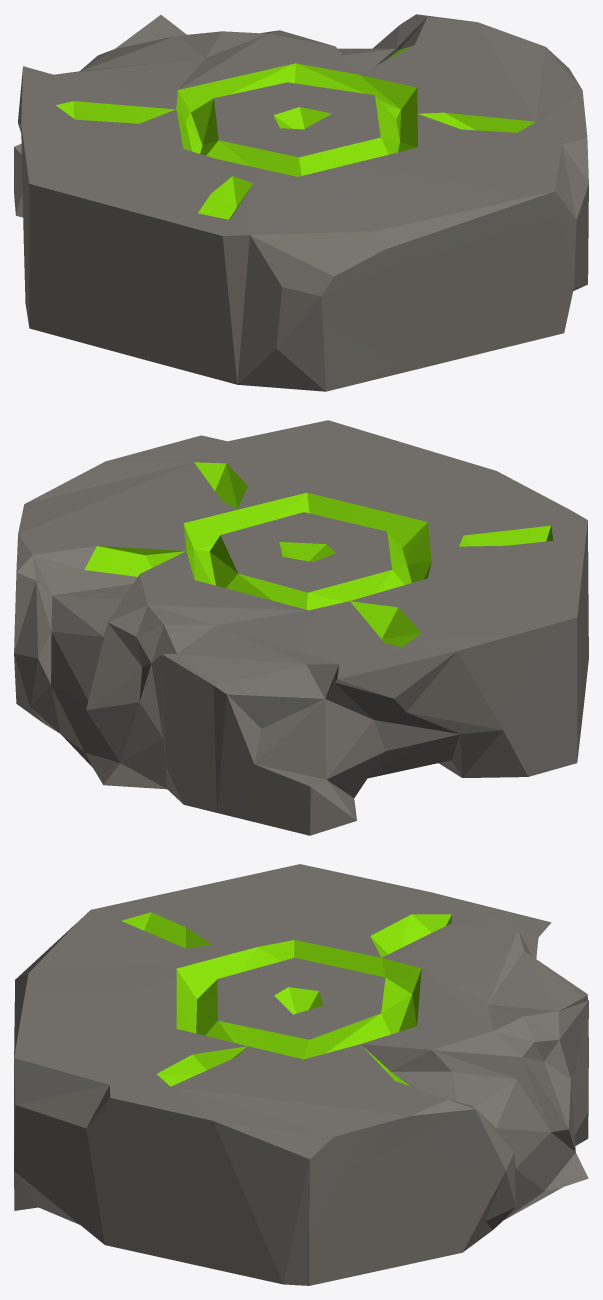
The model's file is SM_Env_Rounded_C_04.glb.
The picture shows the model from 3 angles, top to bottom: view 1: azimuth 30°, elevation 25°; view 2: azimuth 150°, elevation 25°; view 3: azimuth 270°, elevation 25°; orthographic projection. The views are drawn at different scales.
Visible parts, largest first — view 1: SM_Env_Rounded_C_04; view 2: SM_Env_Rounded_C_04; view 3: SM_Env_Rounded_C_04.
Boxes of the visible parts, <box> form: SM_Env_Rounded_C_04: <box>14,14,588,391</box>; SM_Env_Rounded_C_04: <box>14,420,588,835</box>; SM_Env_Rounded_C_04: <box>14,864,588,1285</box>.
Bounding box in the file's own units: 2.71 × 0.6871 × 2.41.
Materials: 1 (1 with a texture image).
